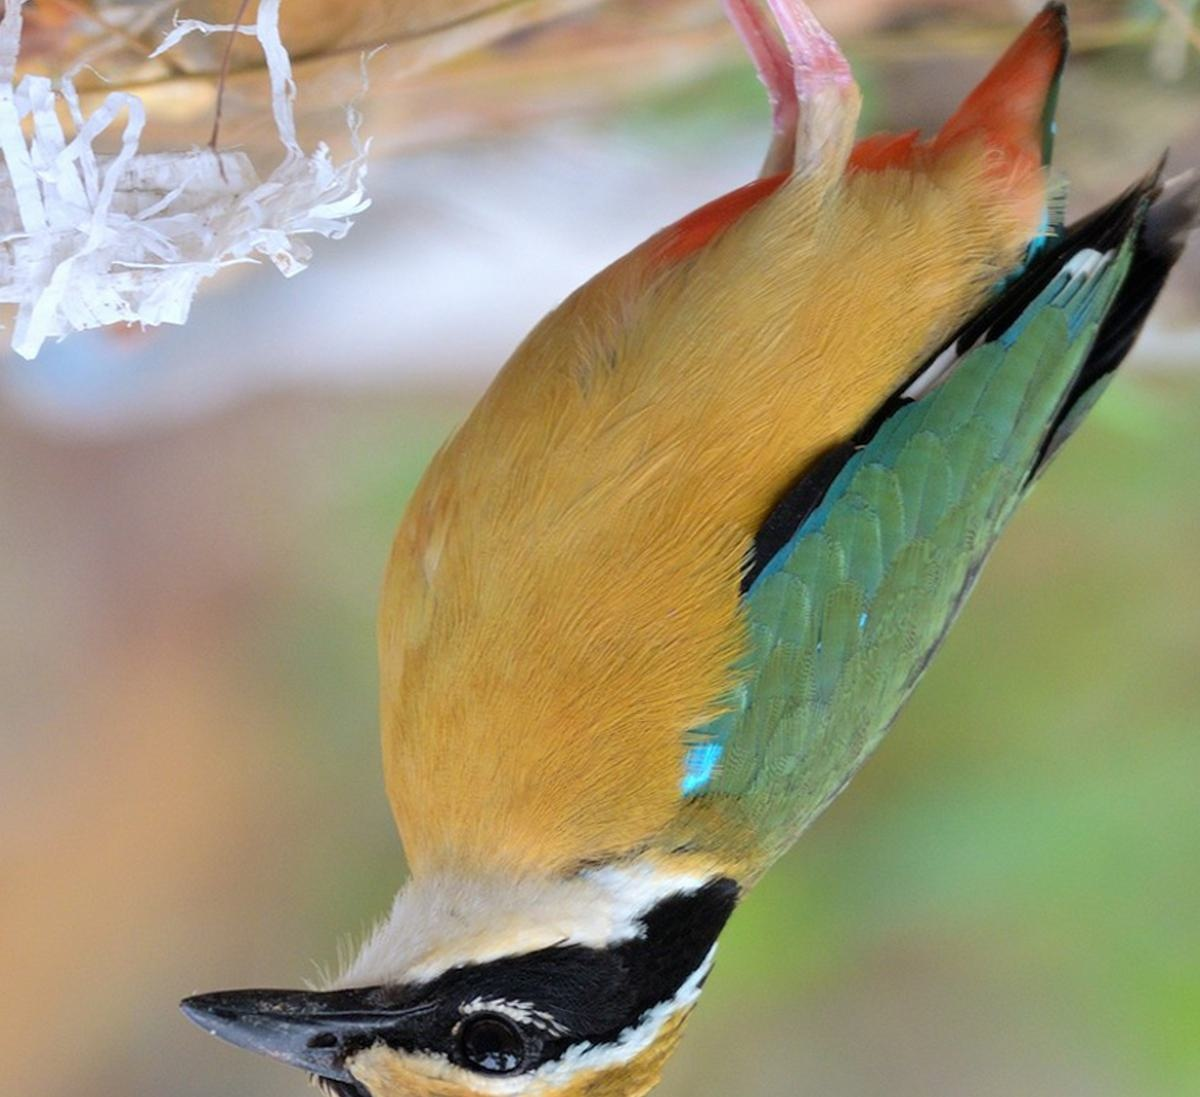pitta: (168, 29, 1141, 1090)
